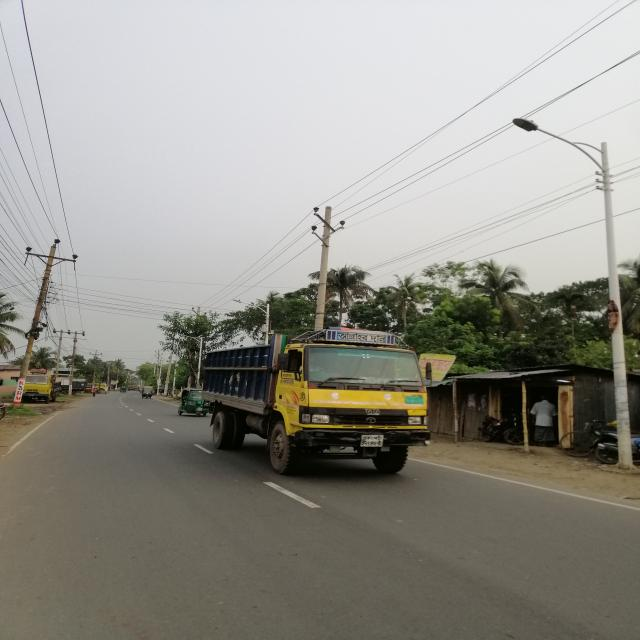Truck: (199, 322, 435, 478)
